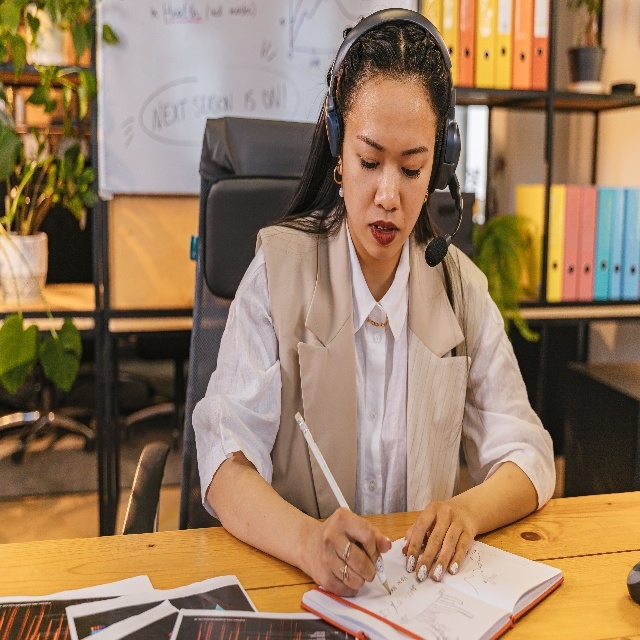Sin_guantes: (309, 506, 393, 598), (401, 496, 475, 583)
